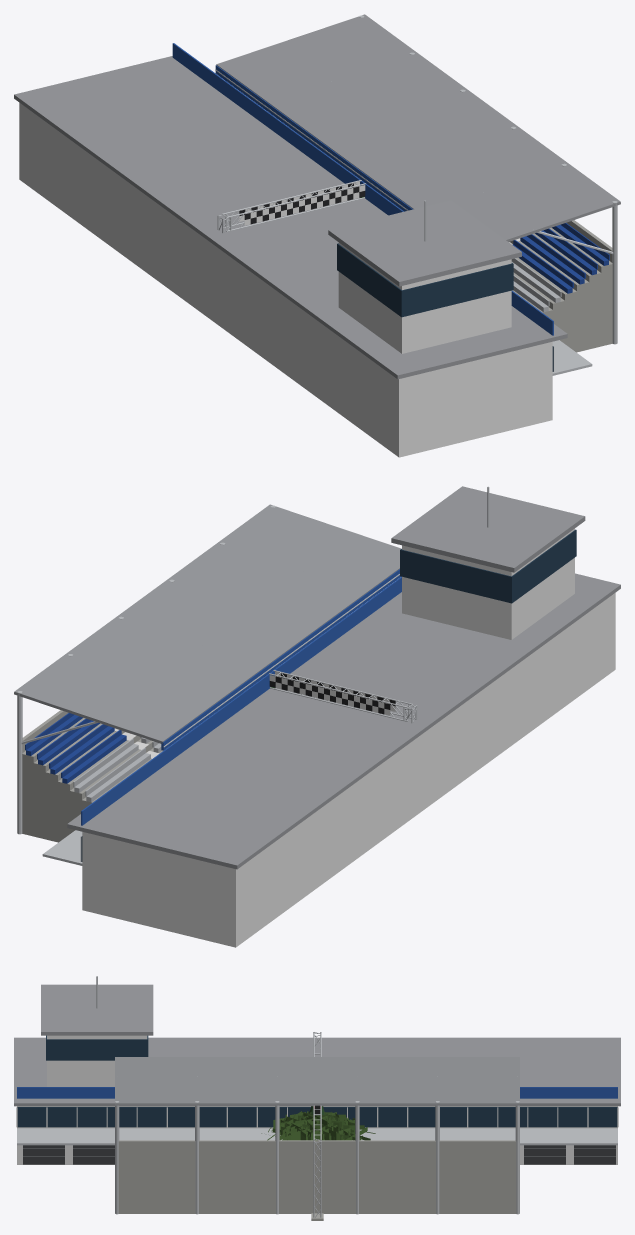
Rendered from props.glb.
3 renders of one model, top to bottom at view 1: azimuth 30°, elevation 25°; view 2: azimuth 150°, elevation 25°; view 3: azimuth 270°, elevation 25°, orthographic. The views are drawn at different scales.
Visible parts, largest first — view 1: Prop_PitBuilding, Prop_Grandstand, Prop_Gantry; view 2: Prop_PitBuilding, Prop_Grandstand, Prop_Gantry; view 3: Prop_PitBuilding, Prop_Grandstand, Prop_Oak, Prop_OakFar, Prop_Gantry.
Boxes of the visible parts, bbox=[...] form: Prop_PitBuilding: bbox=[14, 43, 592, 457]; Prop_Grandstand: bbox=[215, 14, 620, 352]; Prop_Gantry: bbox=[217, 180, 366, 233]; Prop_PitBuilding: bbox=[42, 486, 620, 947]; Prop_Grandstand: bbox=[14, 504, 401, 842]; Prop_Gantry: bbox=[269, 670, 417, 723]; Prop_PitBuilding: bbox=[14, 976, 620, 1164]; Prop_Grandstand: bbox=[115, 1057, 519, 1214]; Prop_Oak: bbox=[271, 1112, 375, 1140]; Prop_OakFar: bbox=[261, 1111, 370, 1140]; Prop_Gantry: bbox=[311, 1032, 323, 1220].
Bounding box in the file's own units: 27.5 × 17.51 × 60.6.
